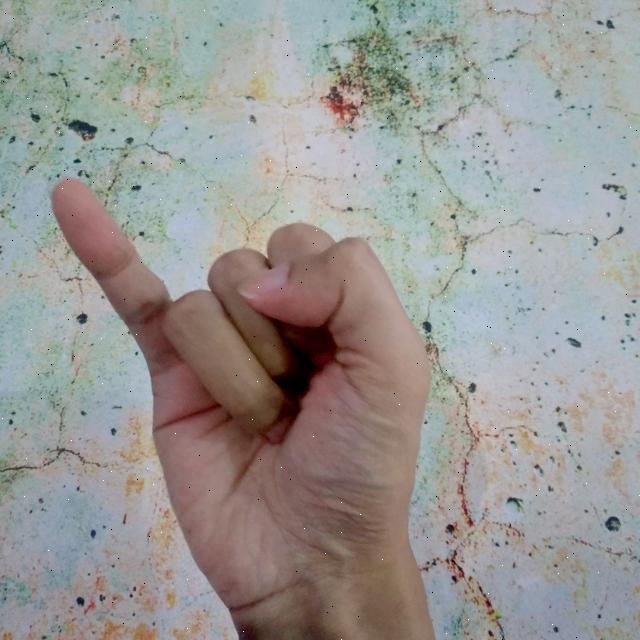I: (46, 174, 438, 640)
